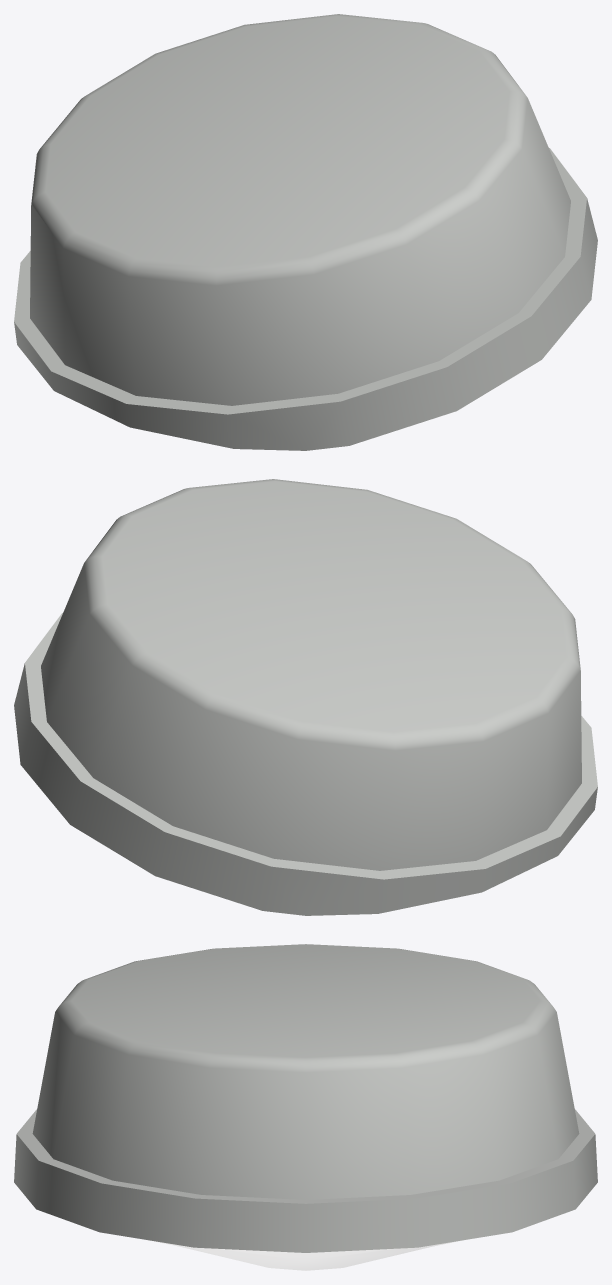
The model's file is Kleine_Runde.glb.
The picture shows the model from 3 angles, top to bottom: view 1: azimuth 30°, elevation 25°; view 2: azimuth 150°, elevation 25°; view 3: azimuth 270°, elevation 25°; orthographic projection.
Parts seen in each view (by area): view 1: BezierCurve.002; view 2: BezierCurve.002; view 3: BezierCurve.002, BezierCurve.003.
Boxes of the visible parts, left/top/right/bottom form: BezierCurve.002: left=14, top=14, right=597, bottom=450; BezierCurve.002: left=14, top=479, right=597, bottom=915; BezierCurve.002: left=14, top=944, right=597, bottom=1252; BezierCurve.003: left=159, top=1242, right=452, bottom=1270.
Bounding box in the file's own units: 0.4372 × 0.2286 × 0.44.
Materials: 3 (2 with a texture image).
